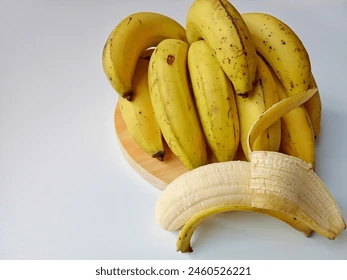banana: (99, 4, 334, 162), (135, 152, 341, 256)
